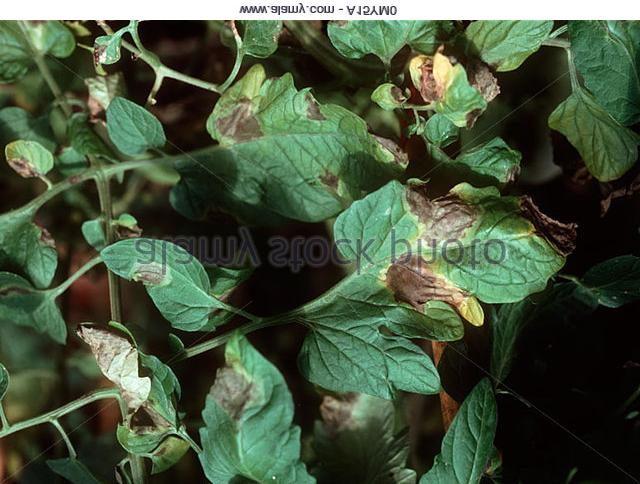Tomato leaf late blight: (292, 172, 559, 398), (166, 72, 412, 227), (63, 327, 194, 457), (96, 223, 224, 334), (372, 43, 496, 147)
